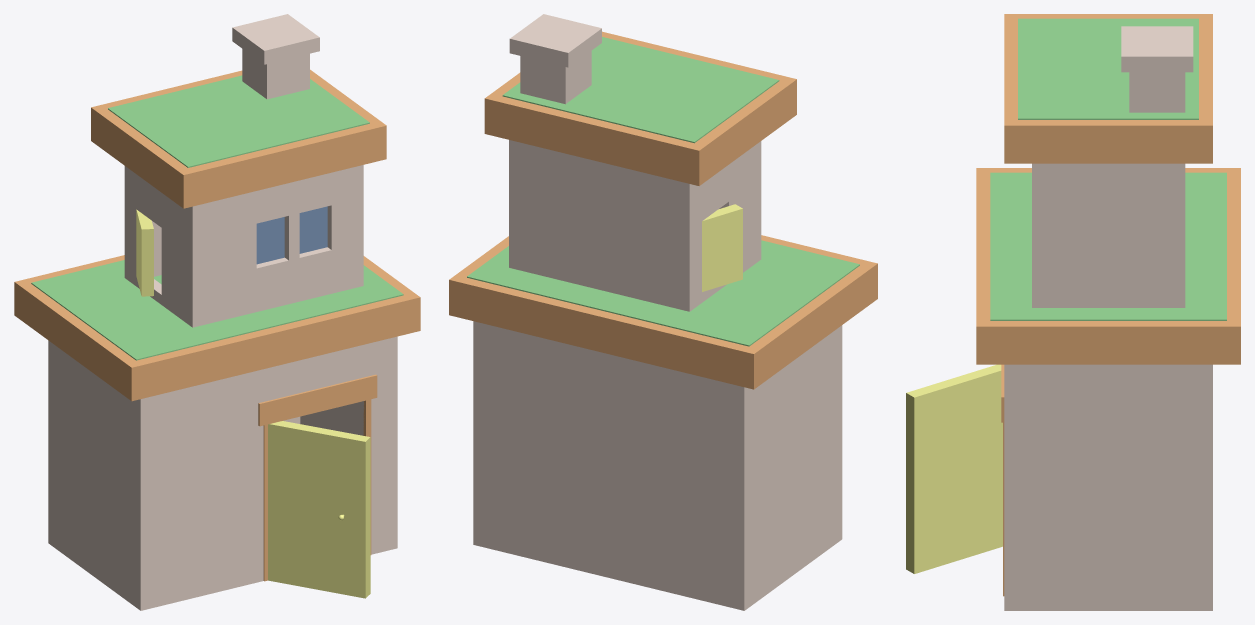
The model's file is fangjian1.obj.
3 views of the same model, side by side, from view 1: azimuth 30°, elevation 25°; view 2: azimuth 150°, elevation 25°; view 3: azimuth 270°, elevation 25° (orthographic). The views are drawn at different scales.
Size of the model in its own units: 2.7 by 4.28 by 2.4.
